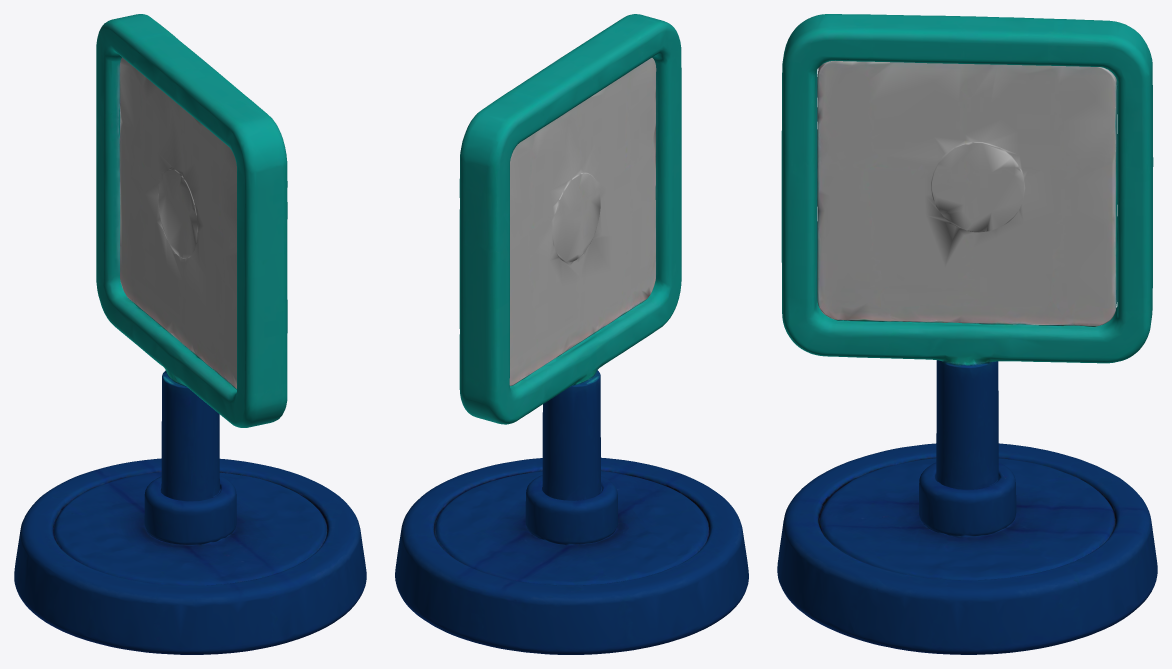
Rendered from mirror.glb.
3 renders of one model, left to right at view 1: azimuth 30°, elevation 25°; view 2: azimuth 150°, elevation 25°; view 3: azimuth 270°, elevation 25°, orthographic. The views are drawn at different scales.
Visible parts, largest first — view 1: tripo_node_22f71552-09a2-404d-b5d9-d2dd8a06b8f5; view 2: tripo_node_22f71552-09a2-404d-b5d9-d2dd8a06b8f5; view 3: tripo_node_22f71552-09a2-404d-b5d9-d2dd8a06b8f5.
Boxes of the visible parts, left/top/right/bottom form: tripo_node_22f71552-09a2-404d-b5d9-d2dd8a06b8f5: left=14, top=14, right=366, bottom=654; tripo_node_22f71552-09a2-404d-b5d9-d2dd8a06b8f5: left=395, top=14, right=748, bottom=654; tripo_node_22f71552-09a2-404d-b5d9-d2dd8a06b8f5: left=777, top=14, right=1157, bottom=654.
Size of the model in its own units: 0.6213 by 1 by 0.6217.
1 material, 1 textured.
